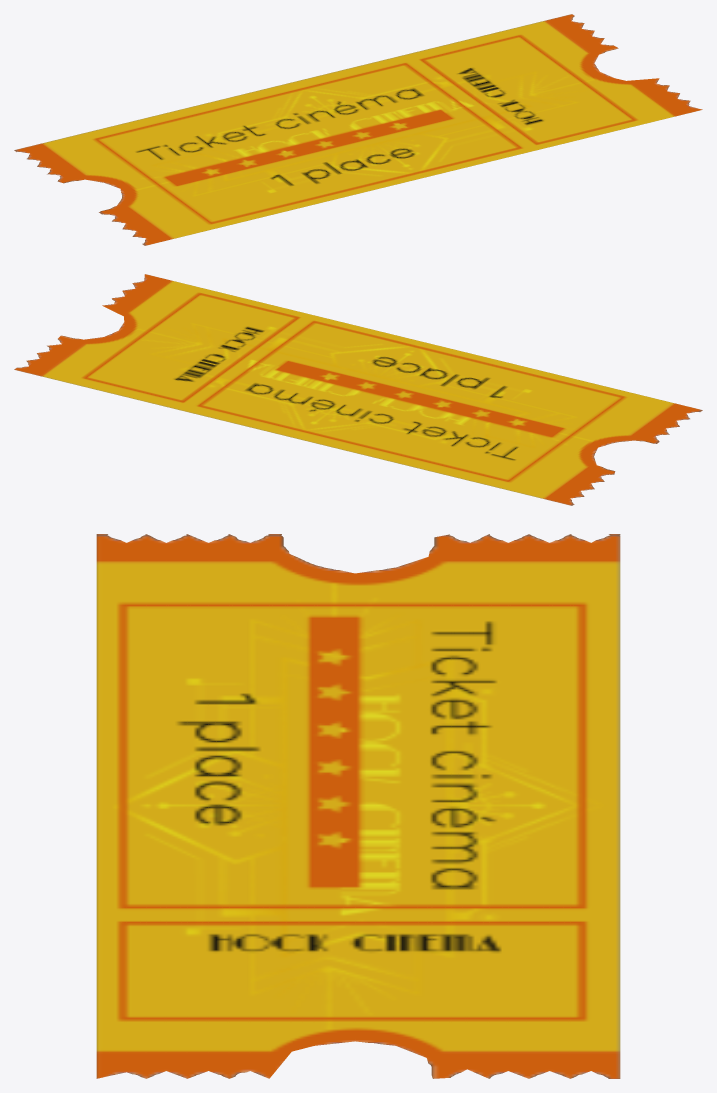
Rendered from Ticket.fbx.
3 renders of one model, top to bottom at view 1: azimuth 30°, elevation 25°; view 2: azimuth 150°, elevation 25°; view 3: azimuth 270°, elevation 25°, orthographic. The views are drawn at different scales.
Parts seen in each view (by area): view 1: Plane; view 2: Plane; view 3: Plane.
Boxes of the visible parts, left/top/right/bottom form: Plane: left=14, top=14, right=702, bottom=245; Plane: left=14, top=274, right=702, bottom=505; Plane: left=96, top=534, right=620, bottom=1078.
Bounding box in the file's own units: 7.23 × 4.78e-07 × 2.93.
